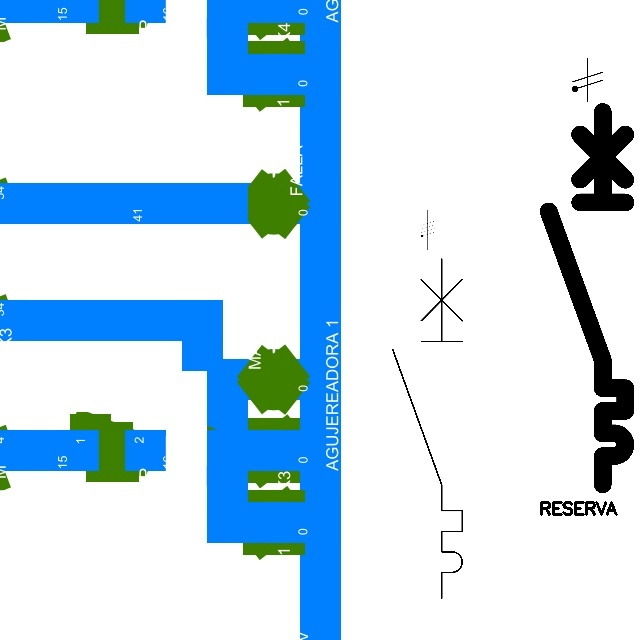interruptor_termomagnetico: (539, 102, 635, 494), (384, 250, 471, 607)
